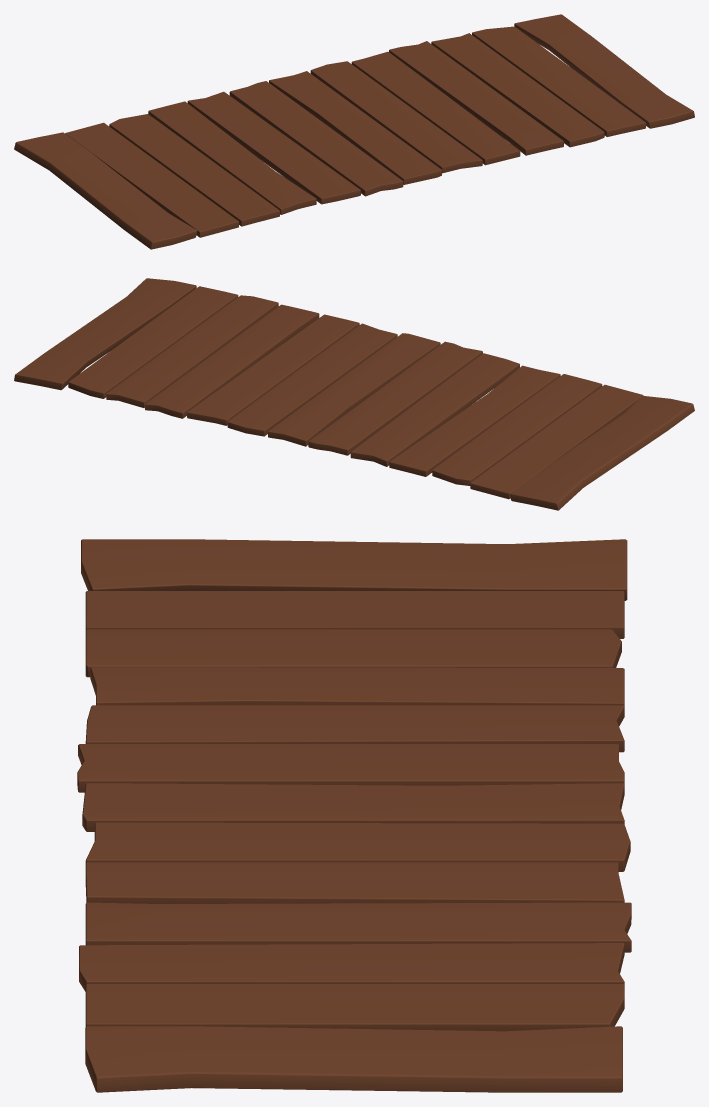
The model's file is SM_ground_wood.fbx.
The picture shows the model from 3 angles, top to bottom: view 1: azimuth 30°, elevation 25°; view 2: azimuth 150°, elevation 25°; view 3: azimuth 270°, elevation 25°; orthographic projection. The views are drawn at different scales.
Visible parts, largest first — view 1: pCylinder16; view 2: pCylinder16; view 3: pCylinder16.
Part boxes in pixels (<box>): pCylinder16: <box>14,14,694,249</box>; pCylinder16: <box>14,278,694,510</box>; pCylinder16: <box>77,539,631,1092</box>.
Size of the model in its own units: 1326 by 29.4 by 583.
